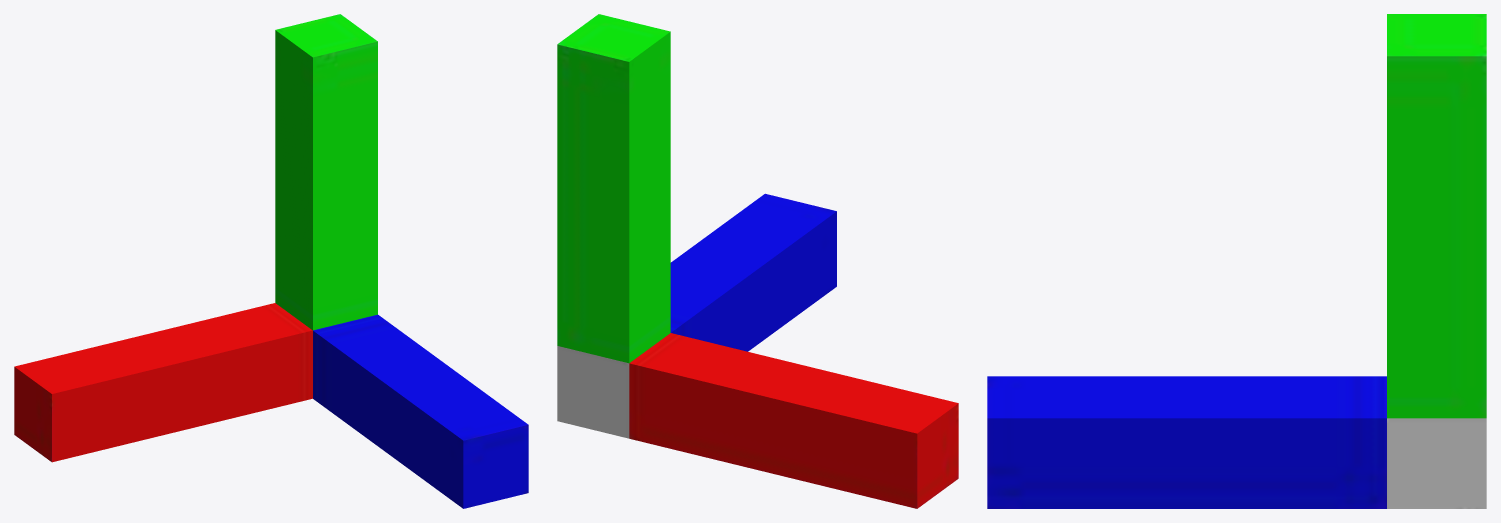
File: mesh_axis.fbx
3 views of the same model, side by side, from view 1: azimuth 30°, elevation 25°; view 2: azimuth 150°, elevation 25°; view 3: azimuth 270°, elevation 25° (orthographic). The views are drawn at different scales.
Visible parts, largest first — view 1: mesh_axis; view 2: mesh_axis; view 3: mesh_axis.
Boxes of the visible parts, x1,y1,x2,y2 form: mesh_axis: (14, 14, 528, 508); mesh_axis: (557, 14, 958, 508); mesh_axis: (987, 14, 1486, 508).
Size of the model in its own units: 12.5 by 12.5 by 12.5.
